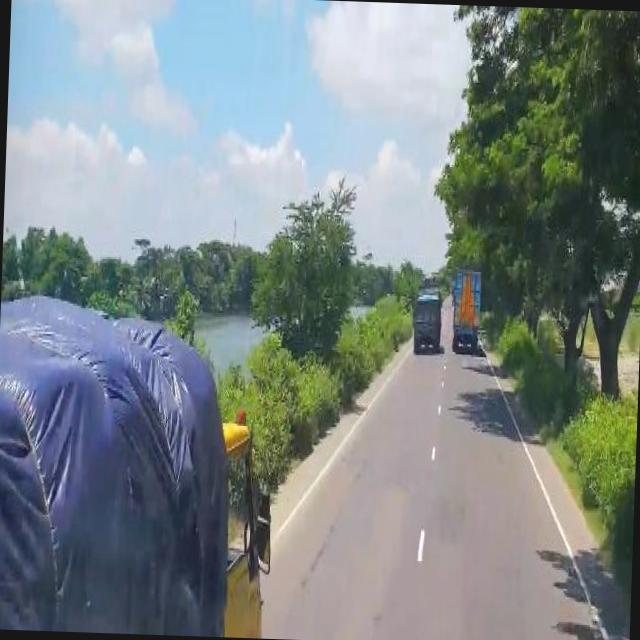truck: (0, 286, 286, 632), (450, 260, 487, 359), (409, 278, 446, 356)
